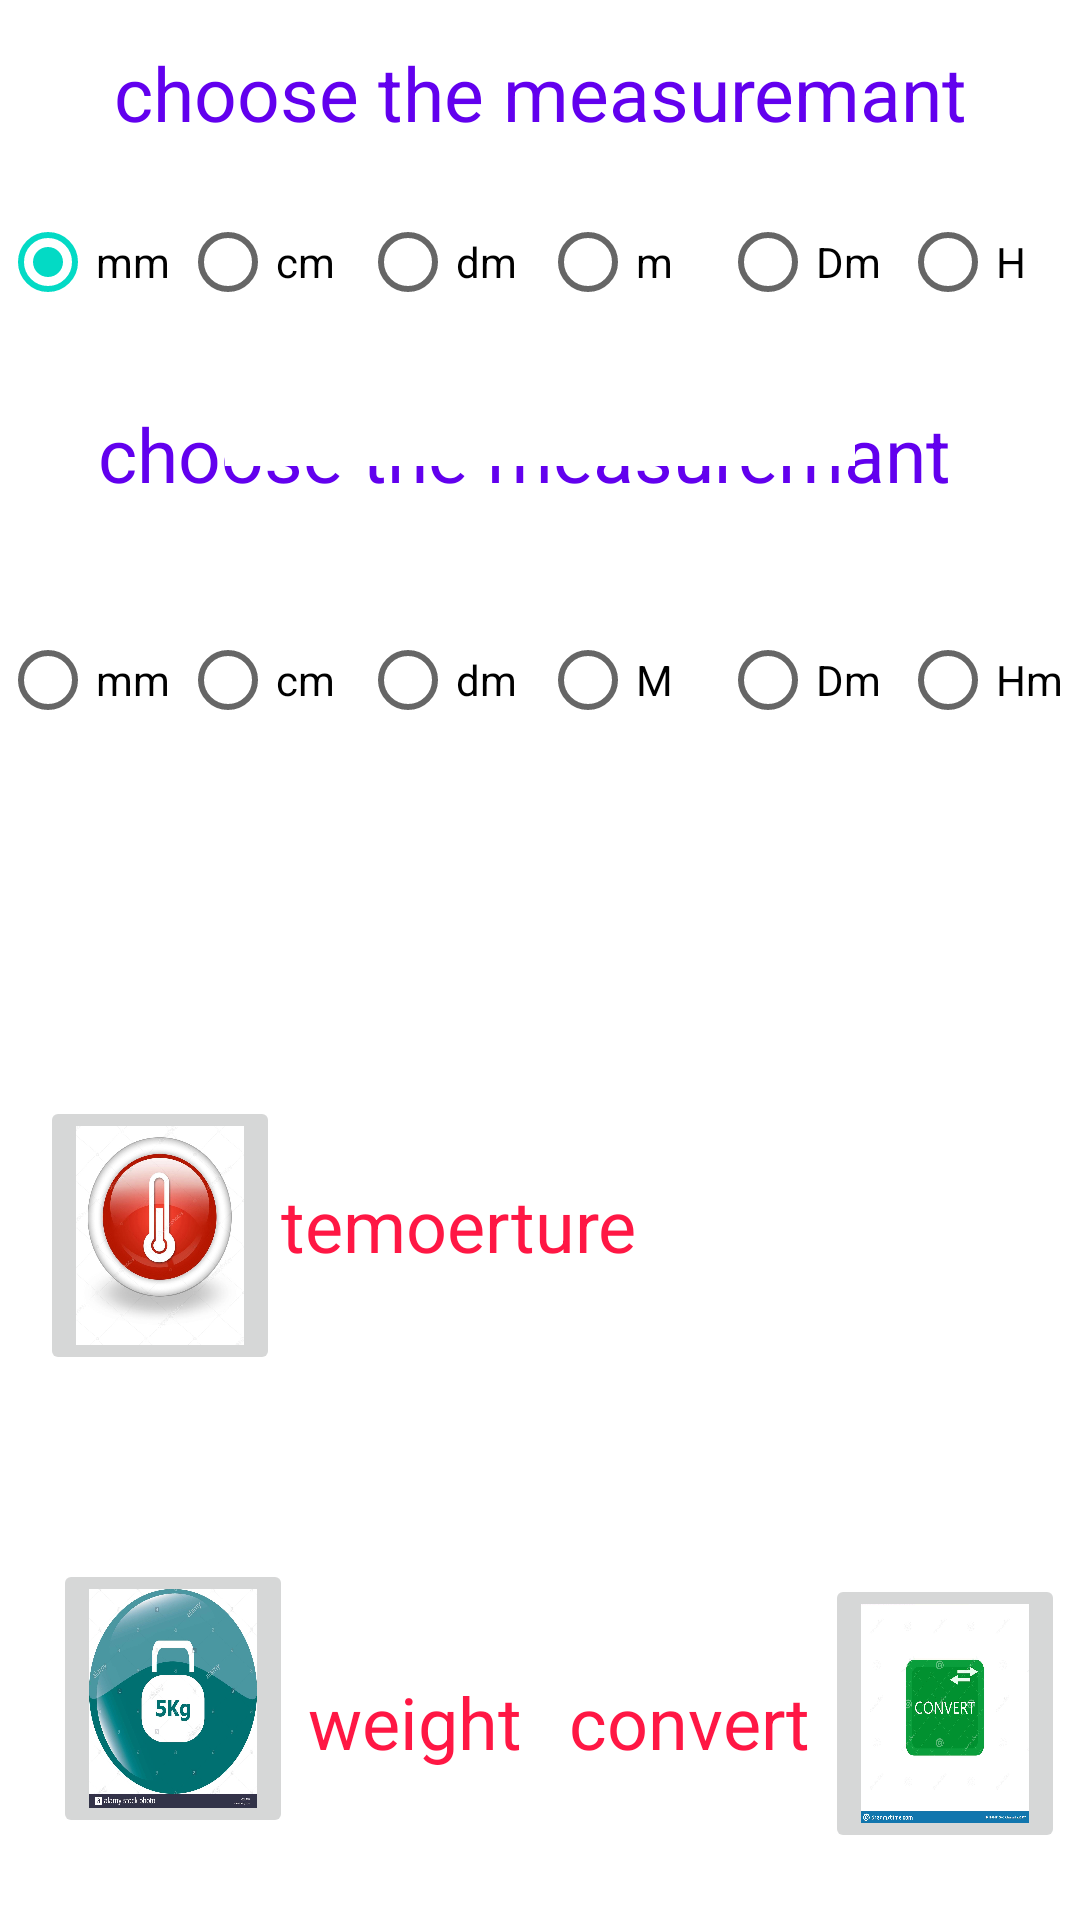

Locate icon controls on the screen. Image size 1080w x 1920h, boxes as box(x1, y1, x2, y2).
temperature: box(52, 1114, 268, 1357)
